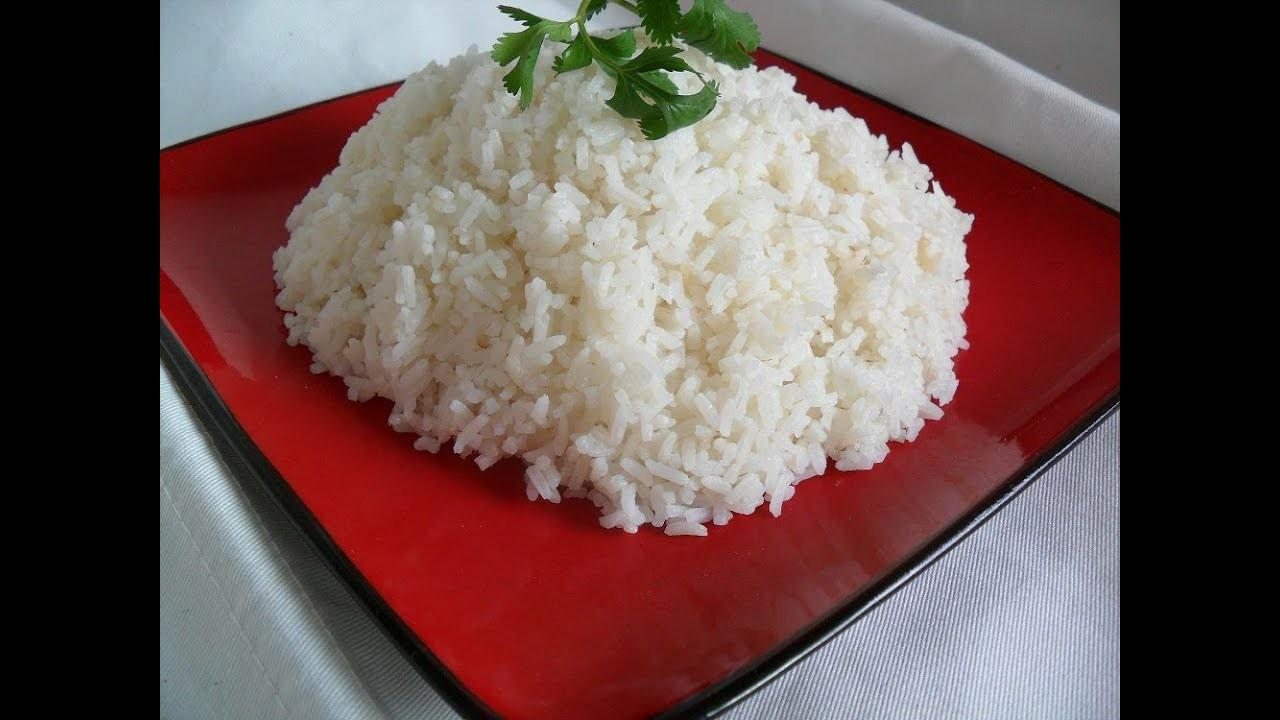WhiteRice: (277, 23, 972, 537)
